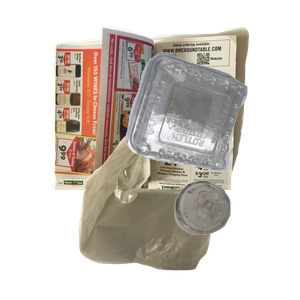glass: (172, 178, 300, 300)
paper: (51, 24, 291, 204)
plastic: (123, 50, 300, 214)
trash: (76, 124, 287, 300)
